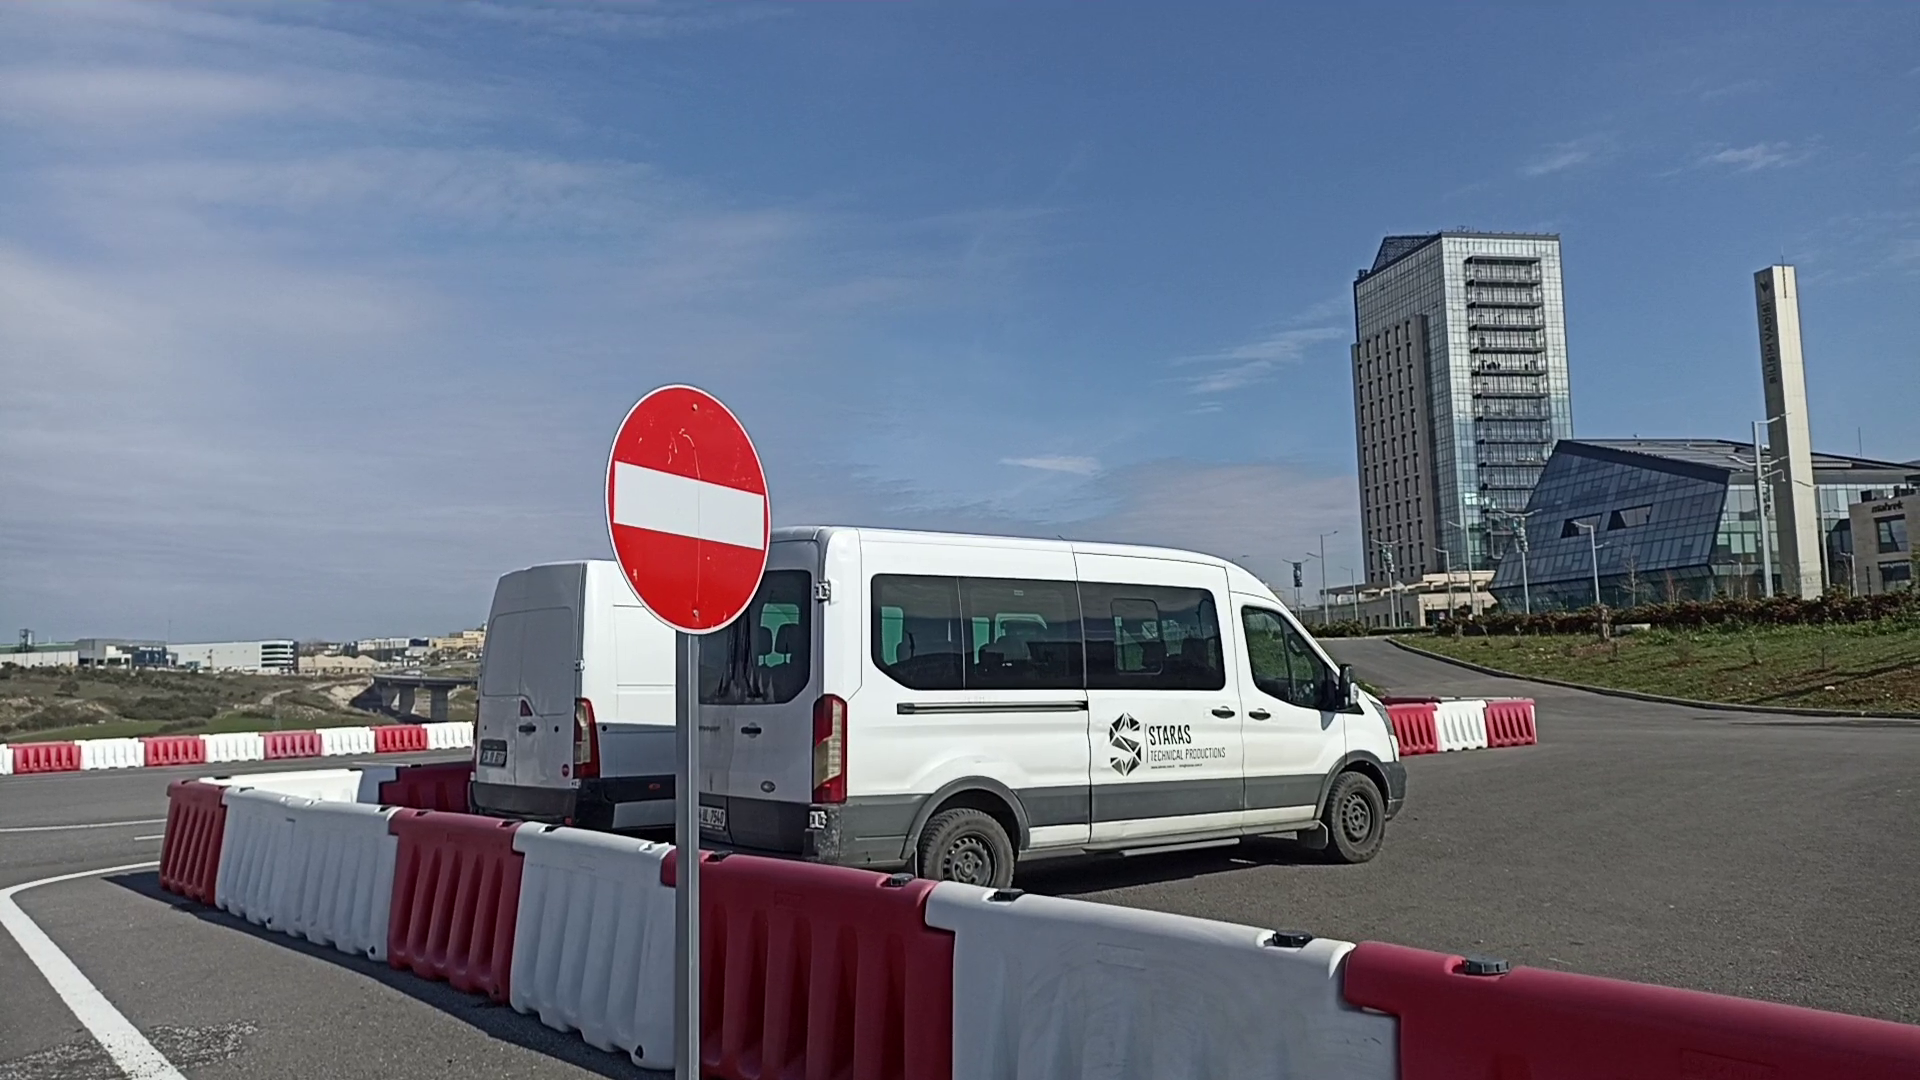noentryway: (600, 378, 775, 637)
